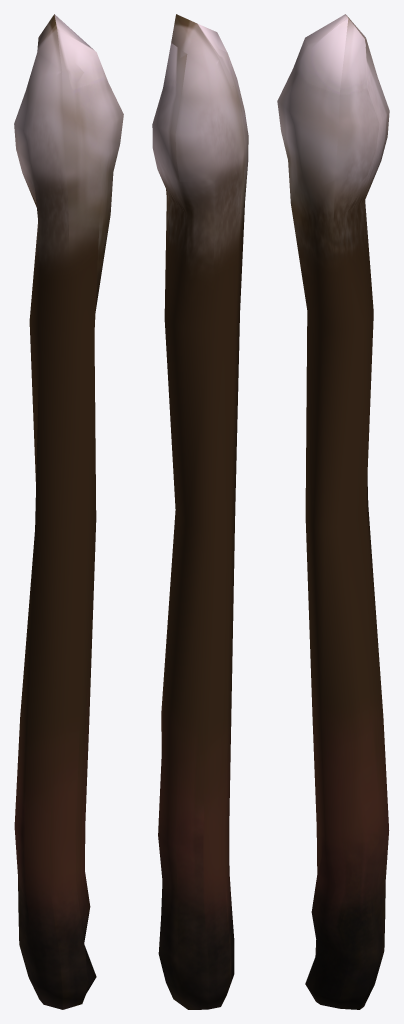
The model's file is staff.dae.
3 renders of one model, left to right at view 1: azimuth 90°, elevation 25°; view 2: azimuth 150°, elevation 25°; view 3: azimuth 270°, elevation 25°, orthographic. The views are drawn at different scales.
Parts seen in each view (by area): view 1: Cube; view 2: Cube; view 3: Cube.
Part boxes in pixels (x1,y1,x2,y2): Cube: [14, 14, 123, 1009]; Cube: [152, 14, 248, 1009]; Cube: [277, 14, 389, 1009].
Bounding box in the file's own units: 0.2446 × 0.2877 × 2.82.
Materials: 1 (1 with a texture image).
